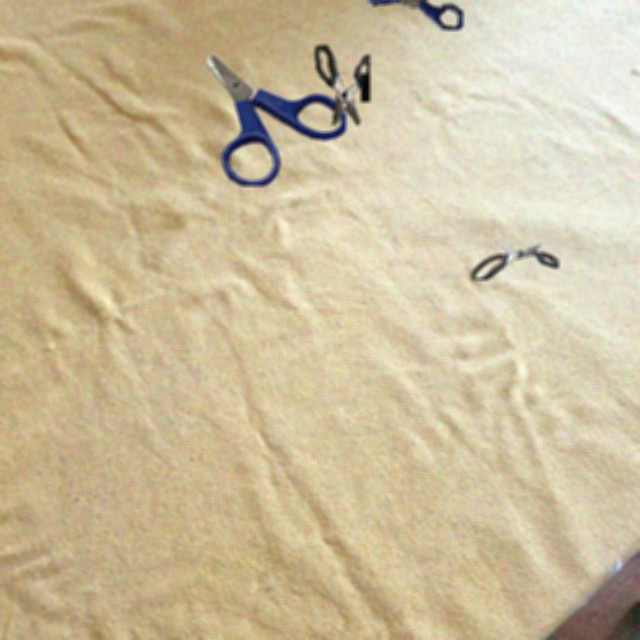scissors: (207, 54, 346, 186), (315, 45, 370, 125), (471, 240, 559, 280), (365, 0, 463, 30)
